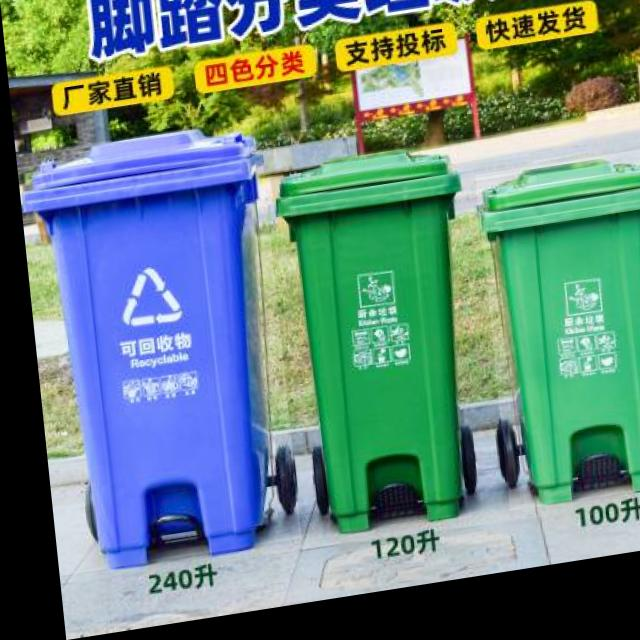garbage_bin: (13, 125, 289, 576), (265, 153, 481, 547), (470, 167, 640, 526)
